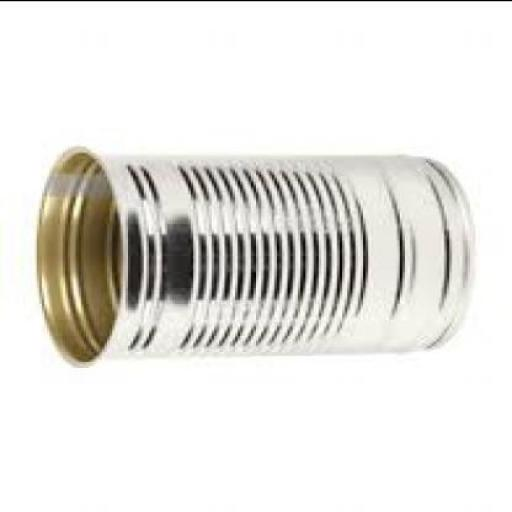metal: (26, 141, 470, 365)
